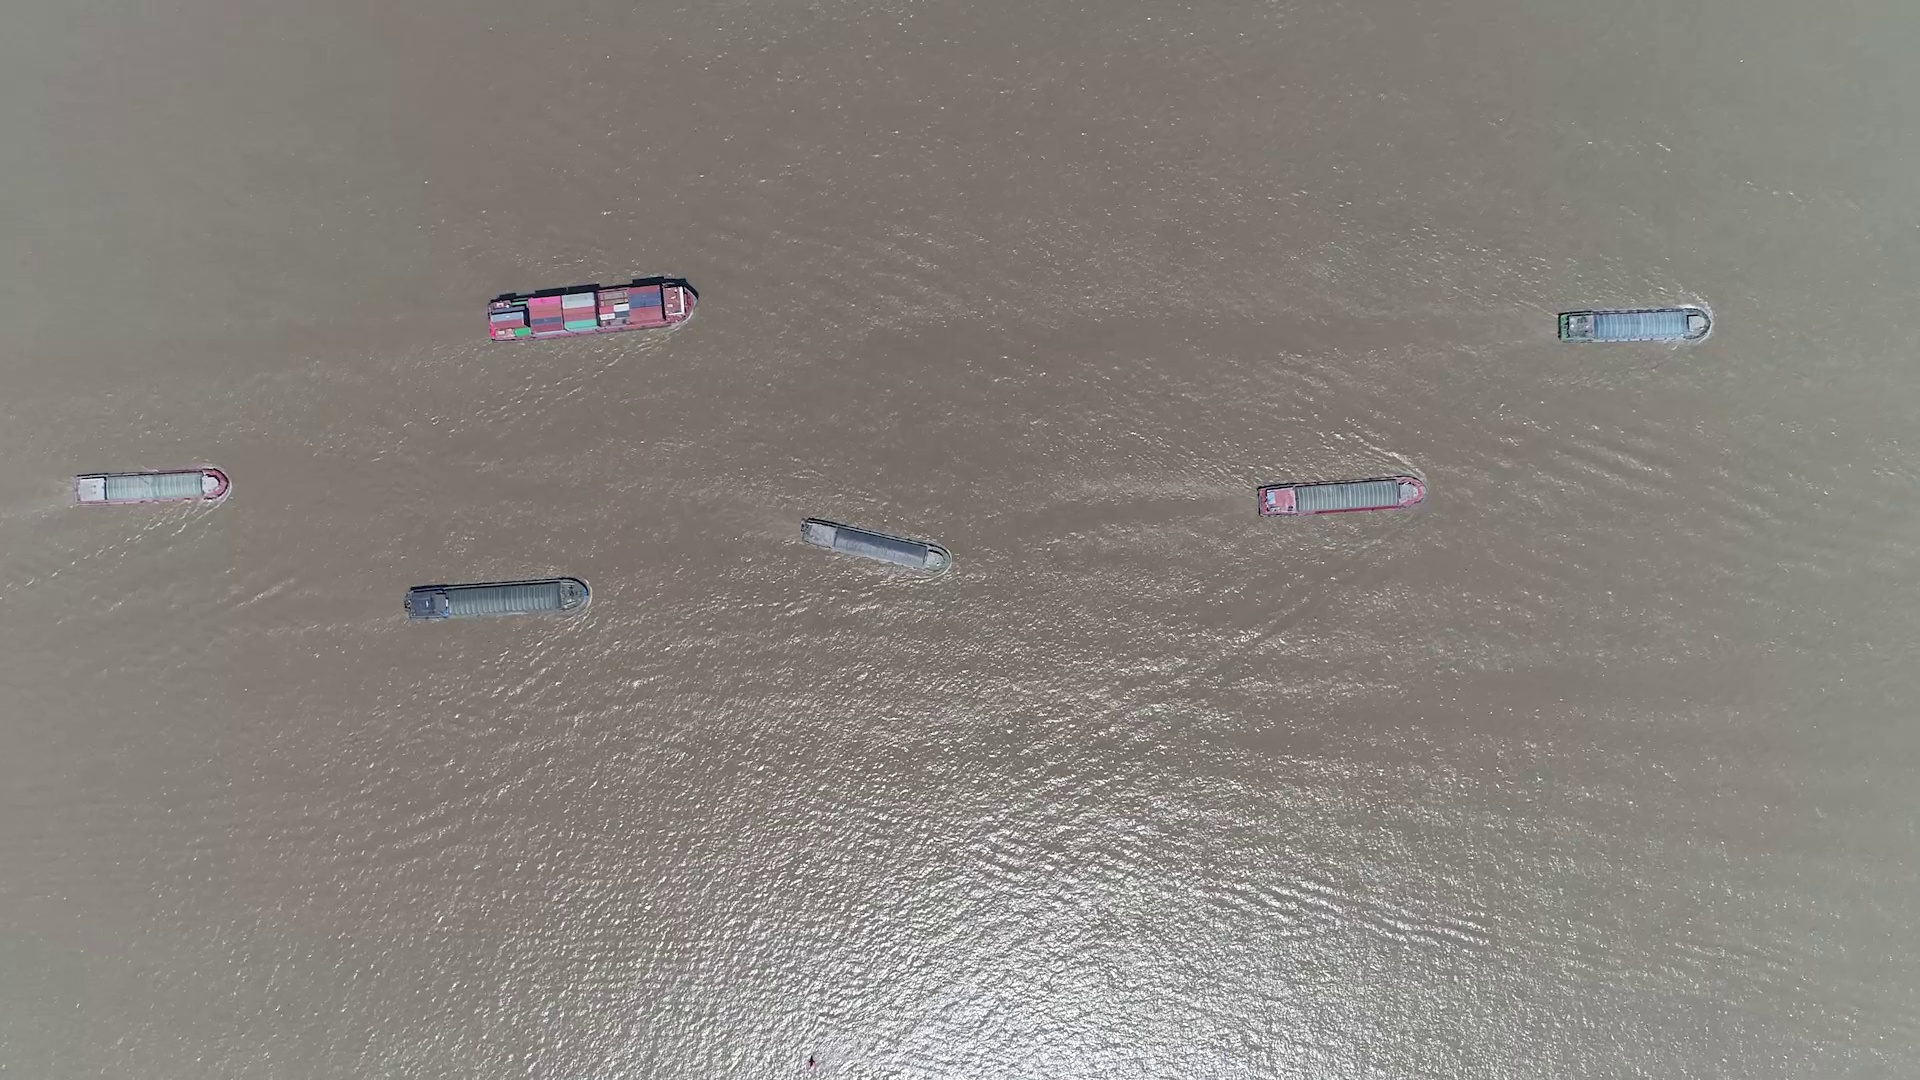ship: (485, 280, 698, 342), (799, 518, 952, 574), (402, 578, 588, 622), (1255, 475, 1425, 516), (73, 469, 229, 506), (1557, 310, 1708, 343)
